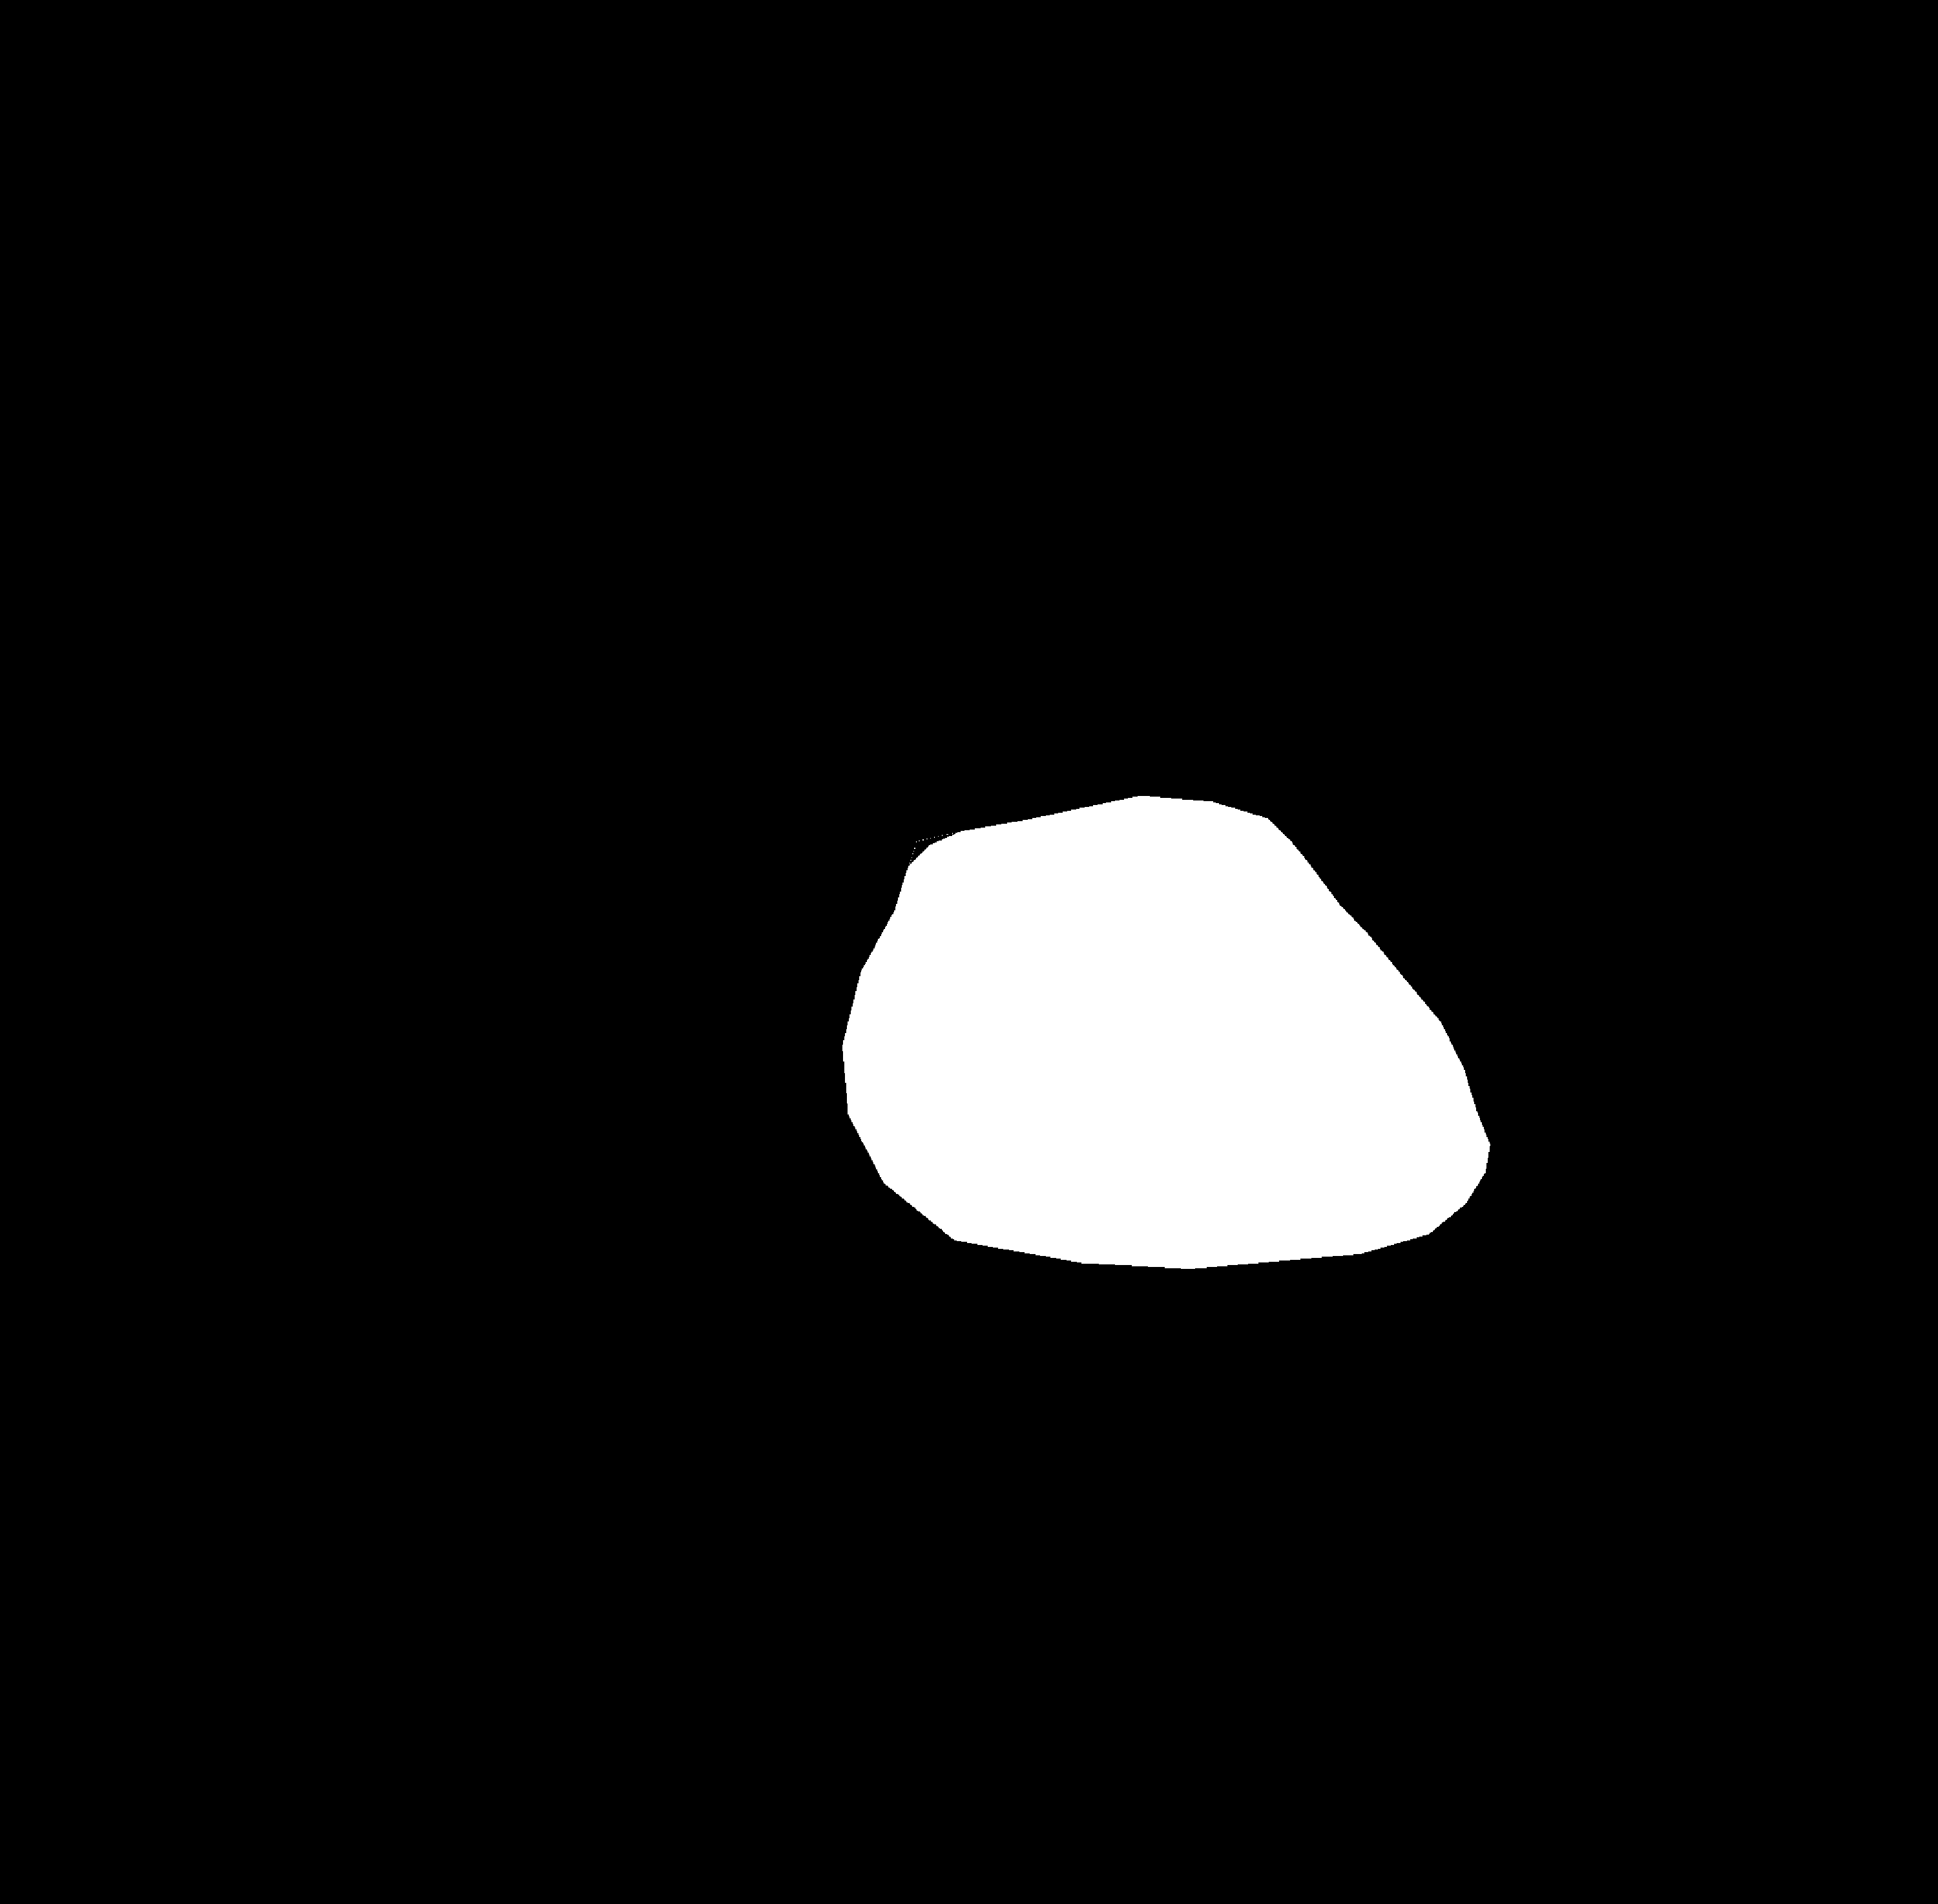heart: (842, 901, 1504, 1248)
left_lung: (415, 218, 939, 1304)
right_lung: (1072, 220, 1619, 1327)
